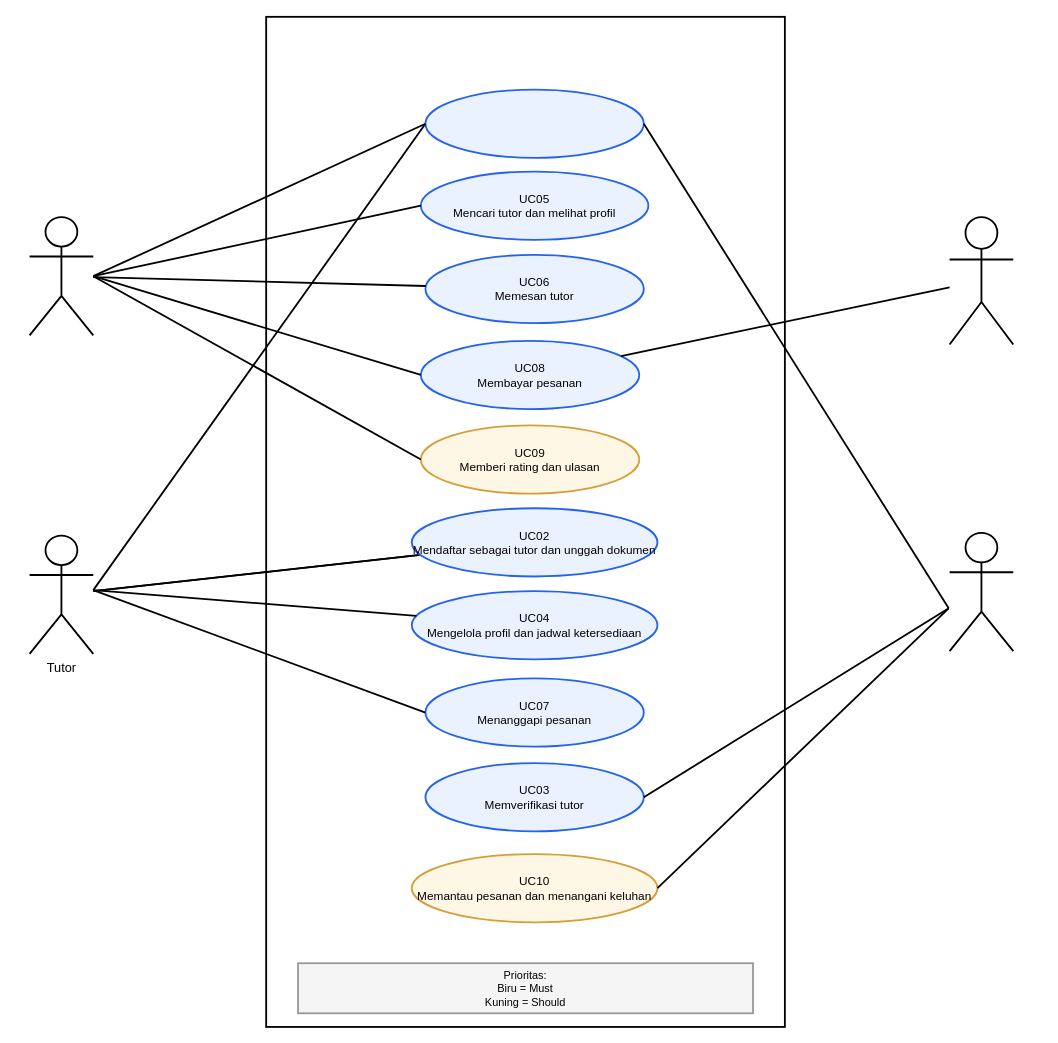
This 1058x1043 diagram has some shape labels left out. The box of each missing label's shape, as (x1, y1, x2, y2) in pixels:
Admin: (948, 531, 1014, 652)
EduLink Tutor: (265, 15, 785, 1027)
Layanan pembayaran: (948, 216, 1014, 345)
Orang tua/siswa: (28, 216, 94, 336)
UC01 Registrasi dan login akun: (424, 88, 644, 158)
